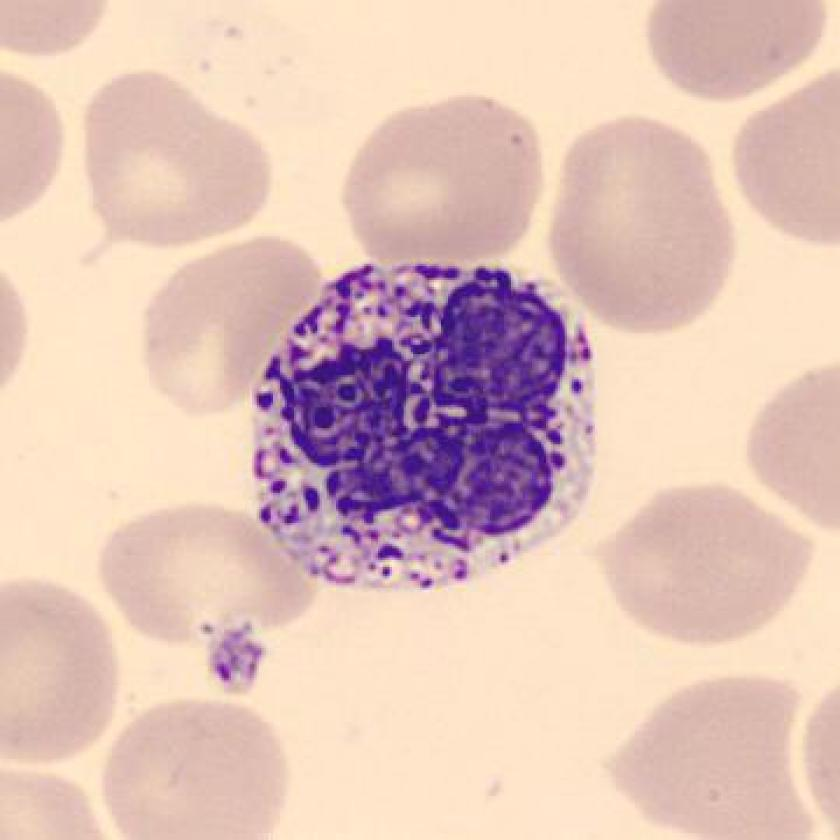basophil: (223, 246, 610, 605)
